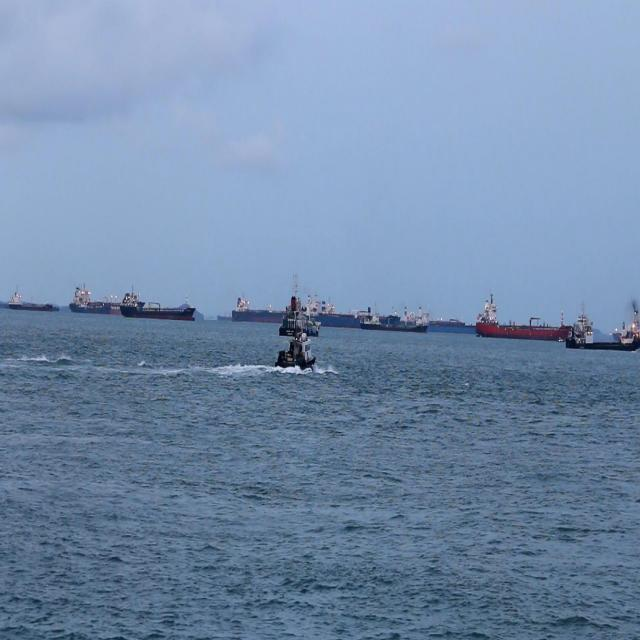CIV_Ship: (267, 323, 325, 383)
